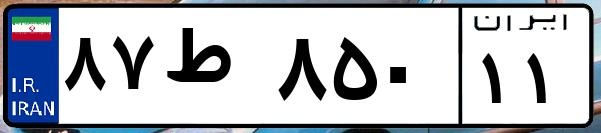0: (385, 28, 445, 110)
1: (475, 38, 525, 113), (525, 38, 570, 115)
5: (330, 28, 385, 110)
7: (110, 28, 158, 98)
8: (270, 28, 330, 110), (57, 26, 110, 100)
ط: (158, 20, 270, 120)
